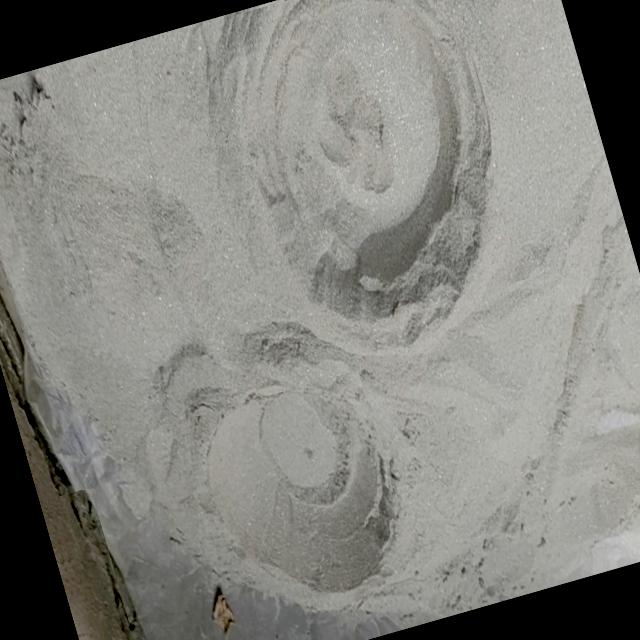C20: (252, 0, 491, 313), (202, 389, 393, 574), (48, 494, 130, 640)
